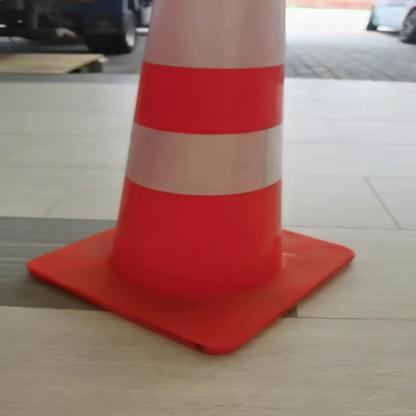cone: (7, 3, 379, 366)
